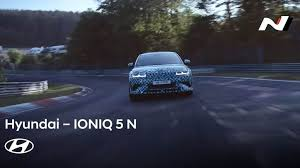Honda Ioniq: (125, 49, 195, 104)
